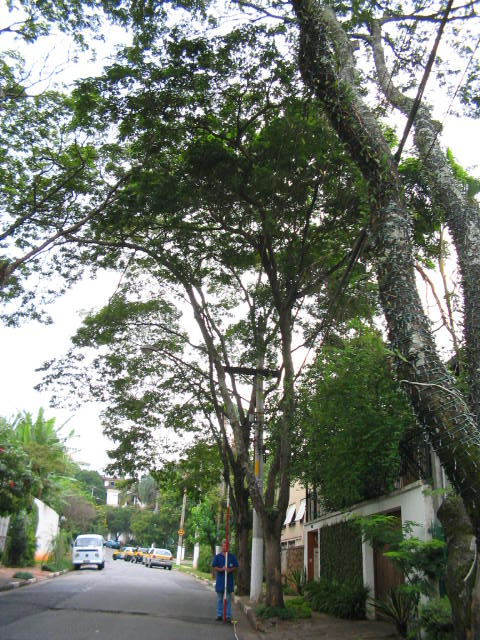crown: (45, 34, 478, 314)
stem: (256, 526, 290, 609)
stick: (218, 483, 234, 624)
tree: (42, 33, 477, 610)
